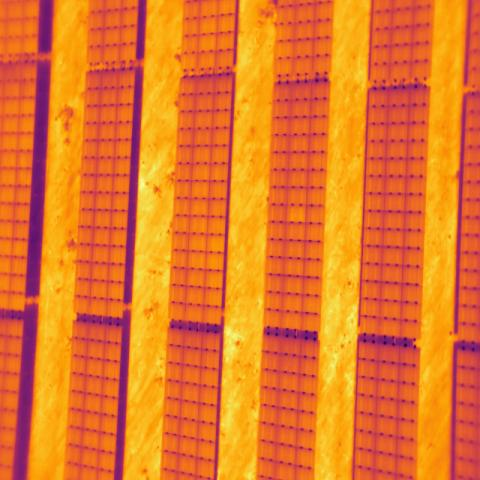fault: (287, 204, 305, 223)
